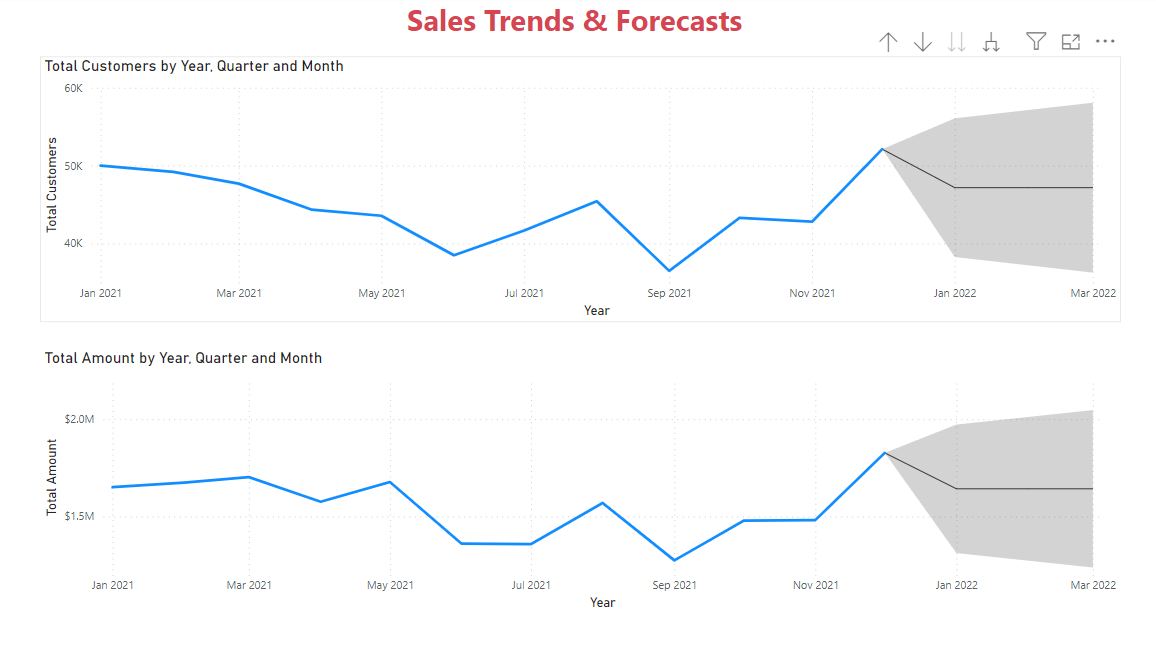

Layout of this report page (visuals, bound fields, positions):
{"tool":"powerbi","page":{"name":"Trends","canvas":[1280,720],"ordinal":2},"visuals":[{"type":"lineChart","fields":{"Category":["sales.Date.Variation.Date Hierarchy.Year","sales.Date.Variation.Date Hierarchy.Quarter","sales.Date.Variation.Date Hierarchy.Month","sales.Date.Variation.Date Hierarchy.Day"],"Y":["sales.Total Customers"]},"box":[49.4,67.2,1187,292.3],"z":0},{"type":"lineChart","fields":{"Y":["sales.Total Amount"],"Category":["sales.Date.Variation.Date Hierarchy.Year","sales.Date.Variation.Date Hierarchy.Quarter","sales.Date.Variation.Date Hierarchy.Month","sales.Date.Variation.Date Hierarchy.Day"]},"box":[49.4,388.3,1187,292.3],"z":1000},{"type":"textbox","box":[447.3,0,384.2,54.9],"z":2000}]}

Visuals, with their boxes in screenshot pixels (x1, y1, x2, y2), scaled from the page's 1280x720 canvas onto the 1156x648 screenshot:
lineChart - sales.Date.Variation.Date Hierarchy.Year x sales.Date.Variation.Date Hierarchy.Quarter: detection(45, 60, 1117, 324)
lineChart - sales.Total Amount x sales.Date.Variation.Date Hierarchy.Year: detection(45, 349, 1117, 613)
textbox: detection(404, 0, 751, 49)
